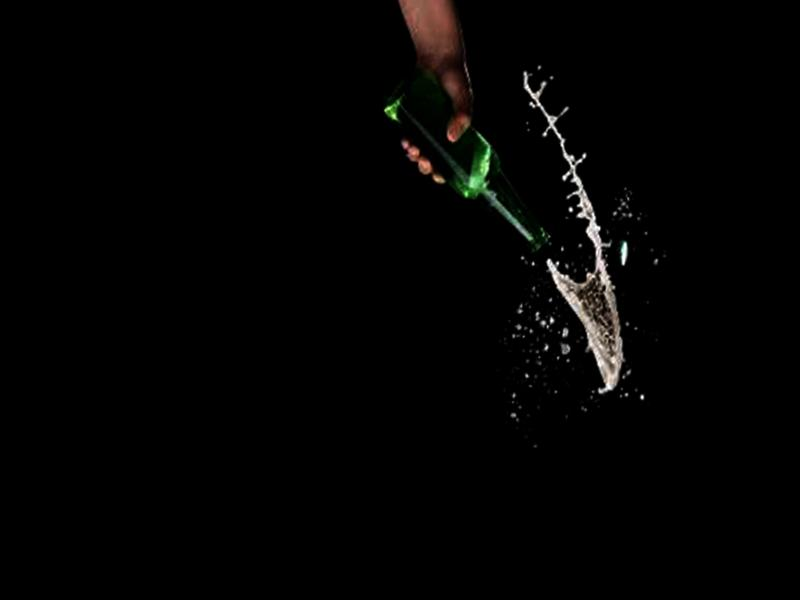Beer: (363, 64, 567, 253)
